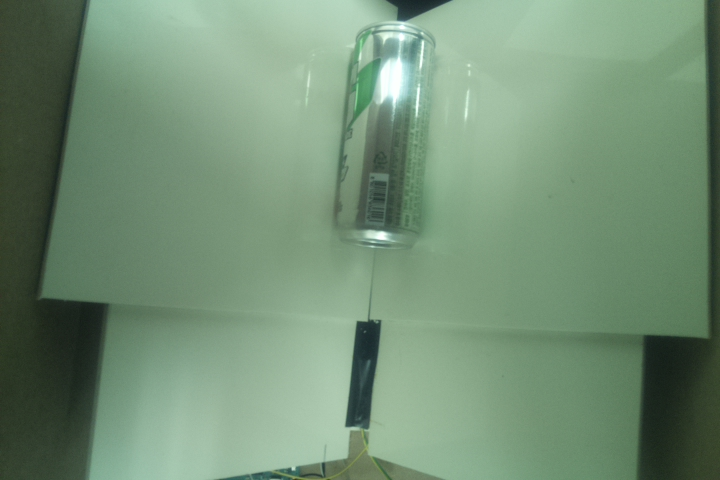can: (331, 19, 442, 248)
